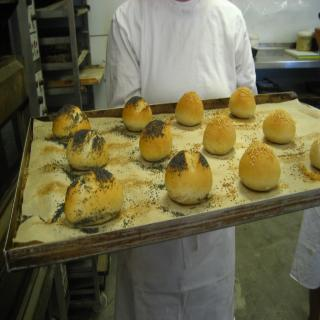Bread: (64, 166, 124, 219), (165, 149, 212, 203), (239, 143, 281, 192), (66, 128, 110, 168), (52, 103, 91, 140), (140, 120, 174, 162), (202, 115, 238, 154), (122, 96, 154, 130), (262, 110, 296, 142), (178, 90, 207, 122), (228, 88, 256, 120), (309, 138, 320, 171)
